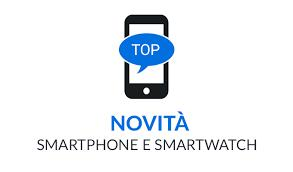Smartphone: (128, 13, 173, 99)
